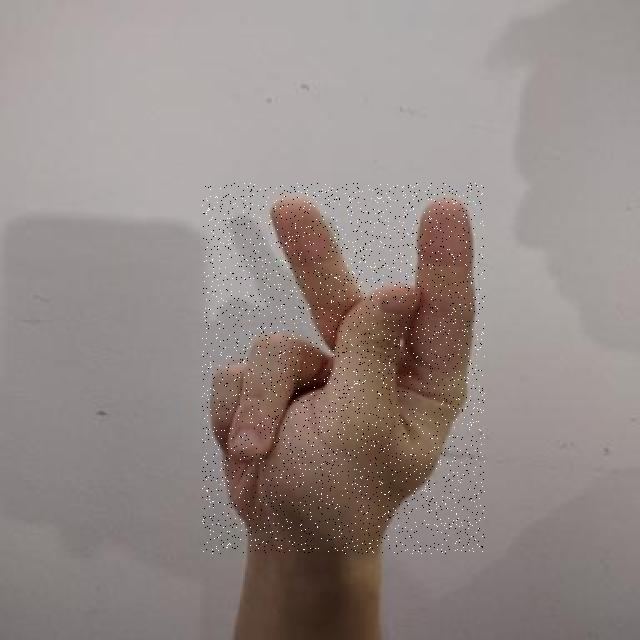K: (202, 183, 485, 554)
